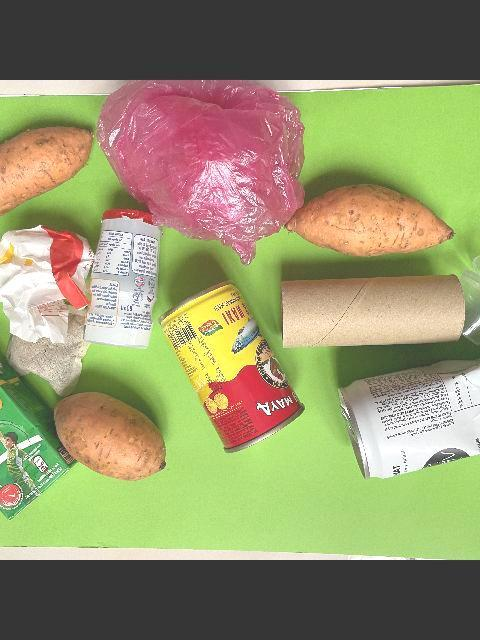drinkcan: (334, 328, 480, 480)
drinkpack: (0, 353, 79, 521)
foodcan: (156, 280, 304, 454)
paperbag: (0, 224, 95, 344)
plasticbag: (95, 80, 306, 266)
plasticbottle: (81, 208, 163, 350)
plasticcontainer: (451, 252, 480, 346)
sweetpotato: (282, 182, 454, 258), (52, 391, 166, 482), (0, 123, 93, 224)
teabag: (1, 302, 91, 398)
tissueroll: (278, 274, 466, 350)
